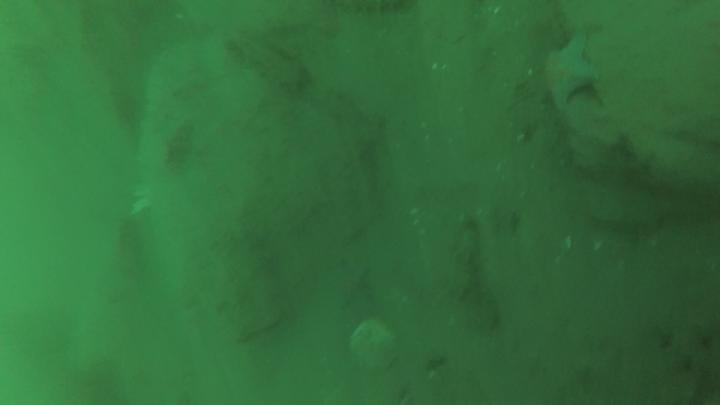holothurian: (452, 217, 502, 336)
scallop: (347, 318, 401, 378)
starfish: (544, 34, 604, 114)
